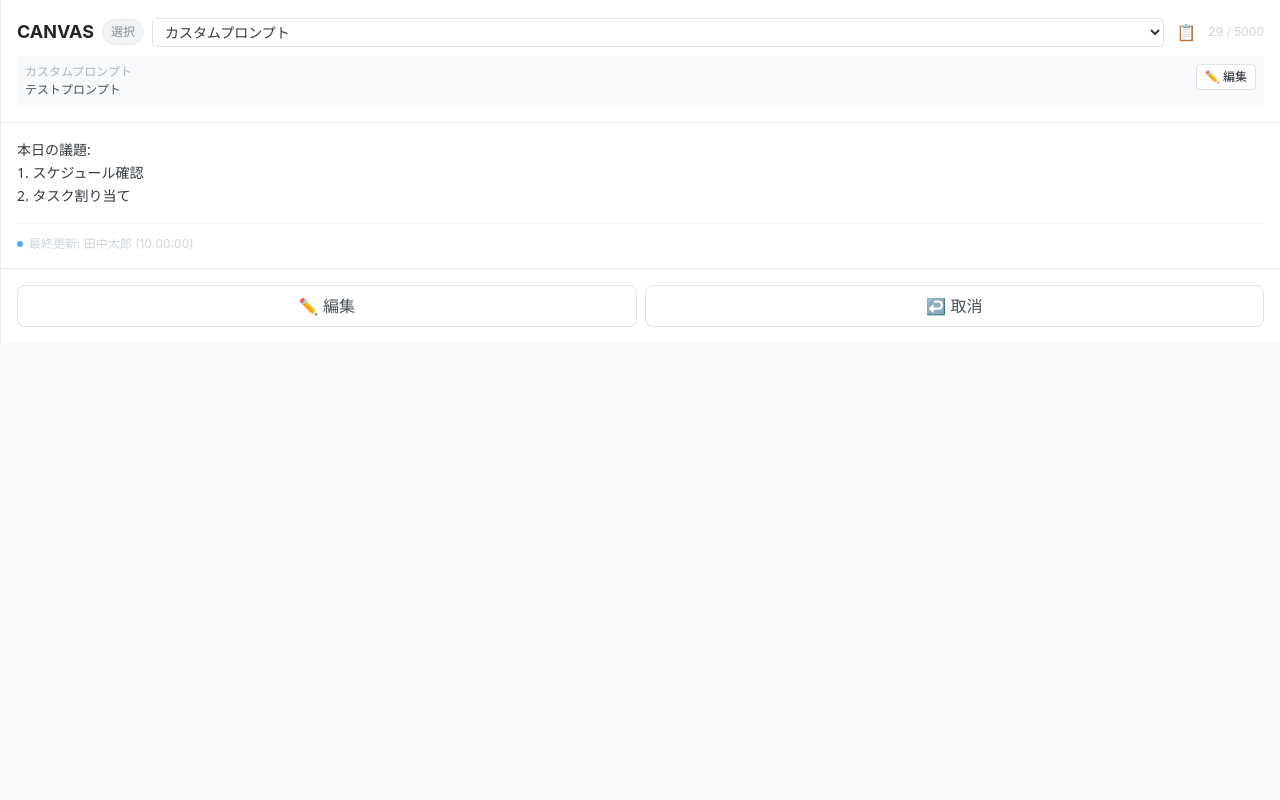
it: SummarySidebar › プロンプト種別選択 › カスタム編集ボタンクリックでモーダルが開く
The image size is (1280, 800).
Click the button with aria-label "カスタムプロンプトを編集" at {"x": 1226, "y": 77}, box [1196,64,1256,90]
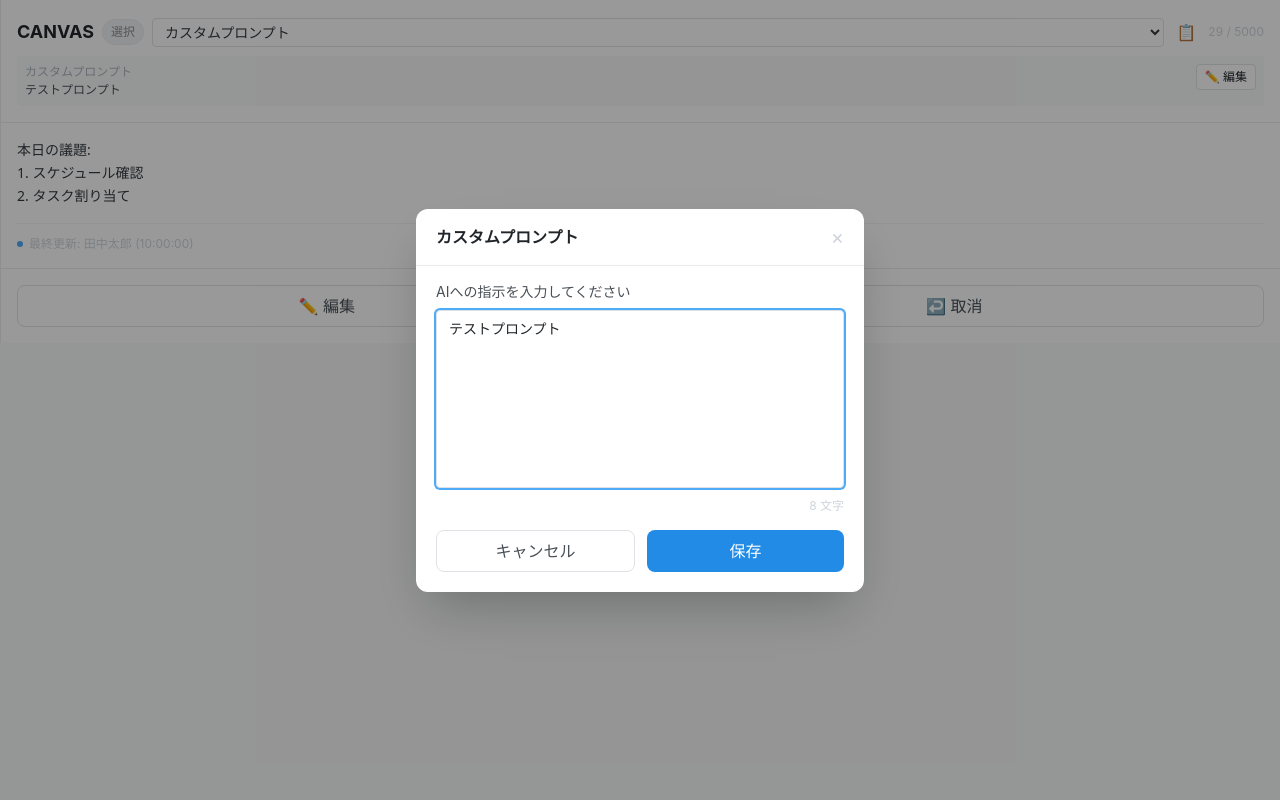
Now the dialog is shown
Now the text box named "カスタムプロンプトを入力" is shown, box [436,310,844,488]
